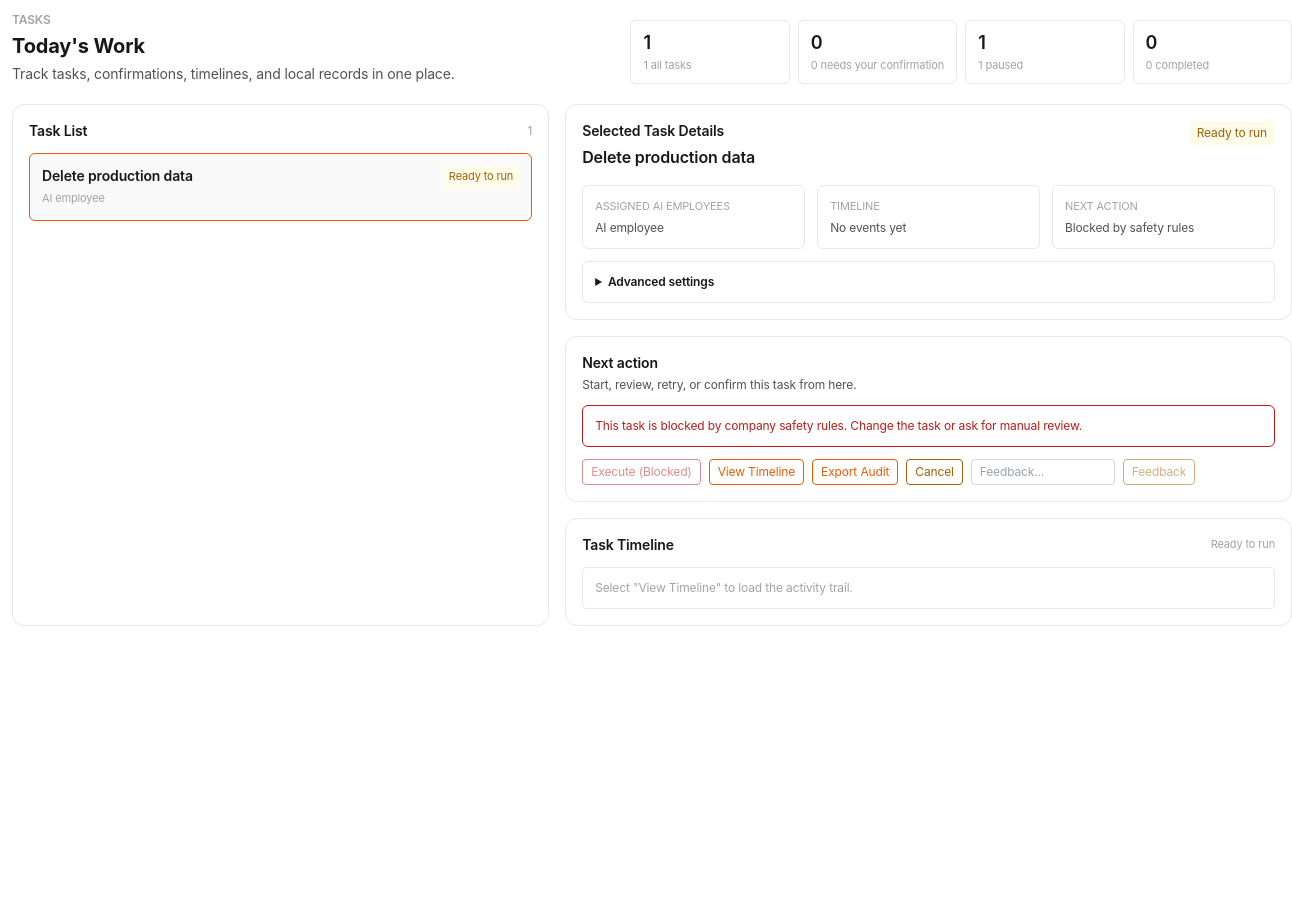
Scenario: WorkOrders › explains that blocked work has no execution timeline
Step 1. Click the button "View Timeline" → [756, 472], box x1=709 y1=459 x2=804 y2=485
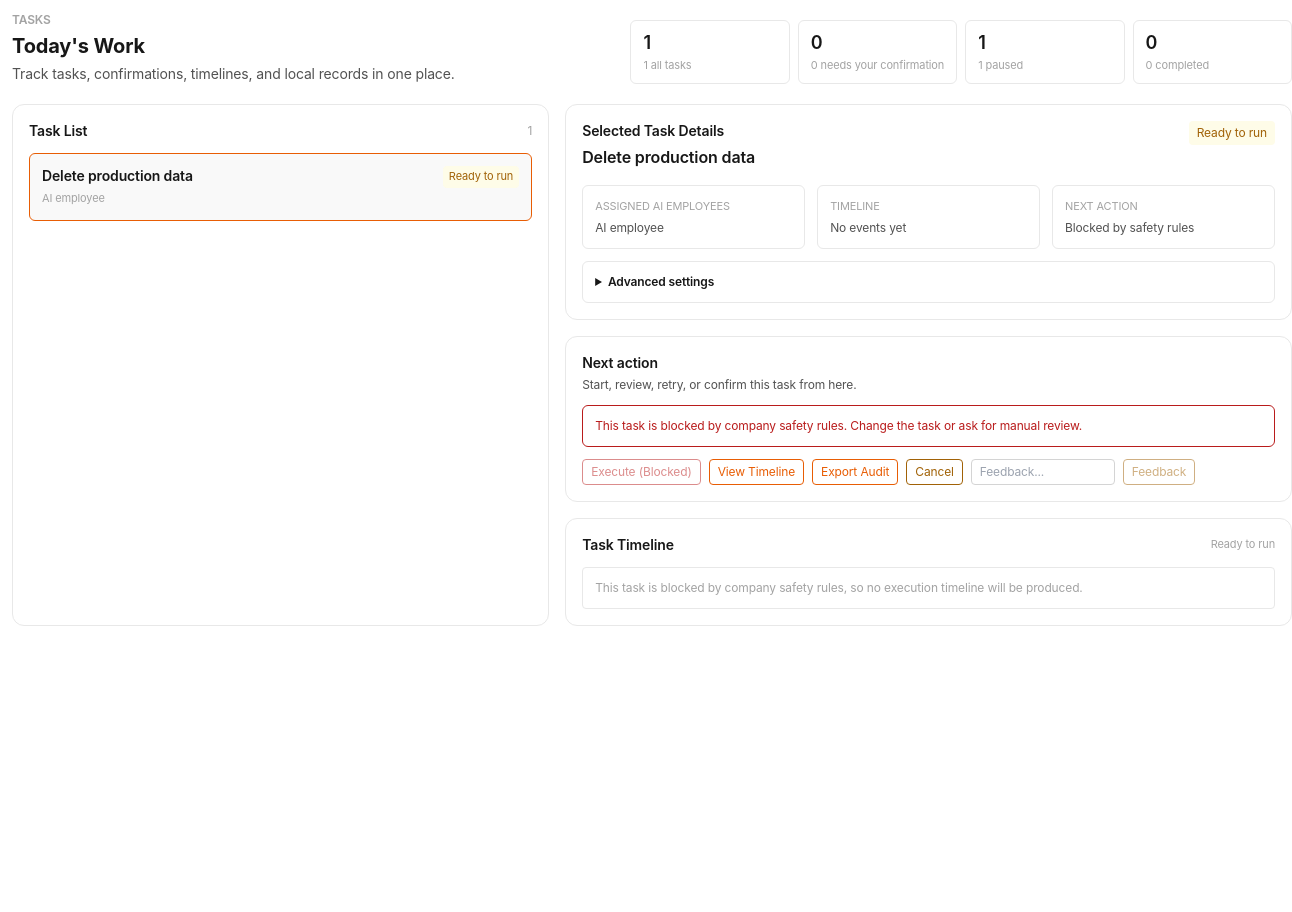
Expected: the text "no execution timeline will be produced" is shown, x1=595 y1=580 x2=1083 y2=595
